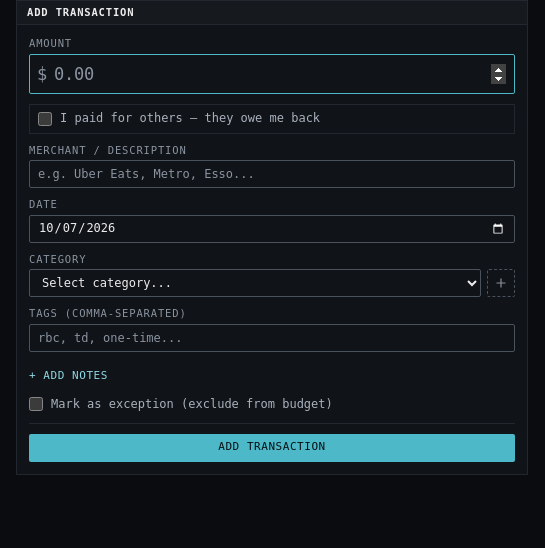
Test: validation › rejects an empty expense with one message per field
The width and height of the screenshot is (545, 548).
Click the button "Add Transaction" at coordinates (272, 448), box [29,434,515,462]
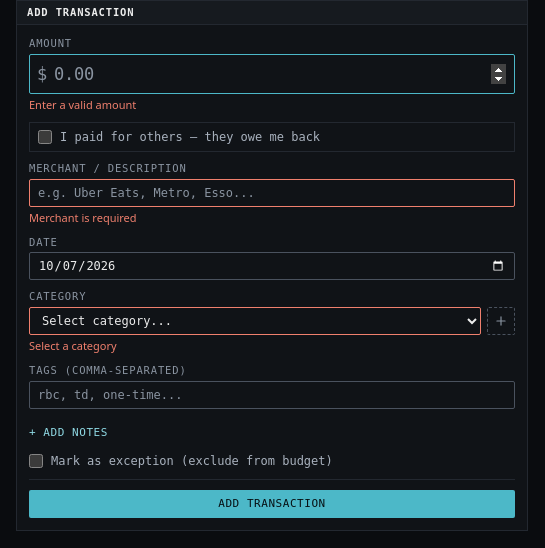
expect the text "Enter a valid amount" is shown: met, box [29,97,136,112]
expect the text "Merchant is required" is shown: met, box [29,210,137,225]
expect the text "Select a category" is shown: met, box [29,338,117,353]
